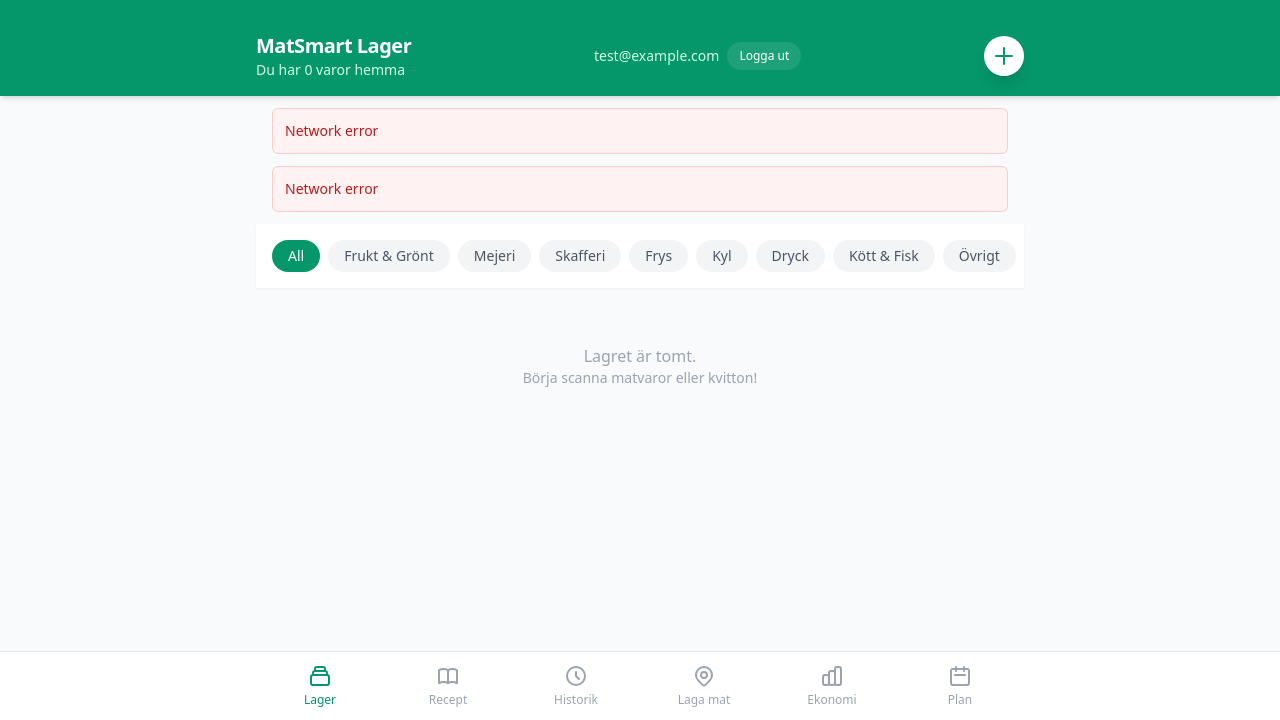
Test: Data Integration Tests › handles offline/error states gracefully
Expected: the text "Lager" is shown, x1=304 y1=692 x2=336 y2=708
Expected: the text "Network error" is shown 2 times, x1=272 y1=108 x2=1008 y2=154; x1=272 y1=166 x2=1008 y2=212
# Navigation should still work
Click the button "Ekonomi": (832, 686) x1=768 y1=652 x2=896 y2=719
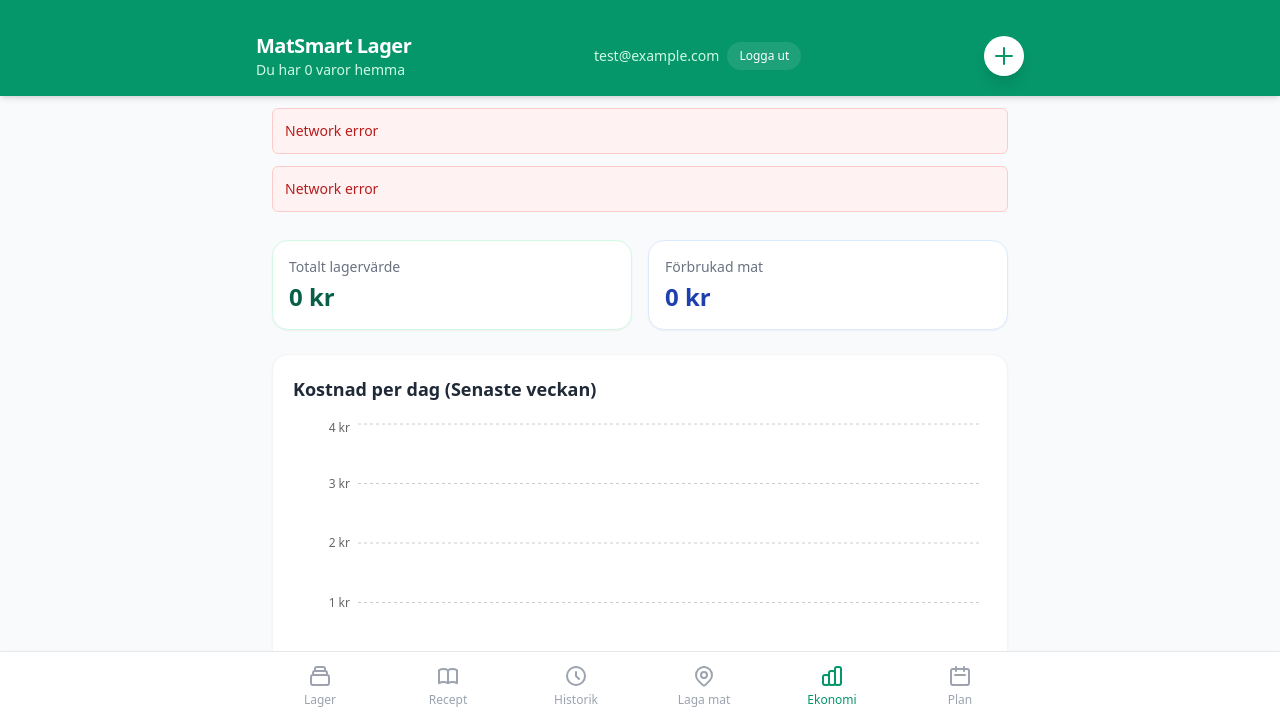
Expected: the heading "Kostnad per dag (Senaste veckan)" is shown, x1=293 y1=377 x2=596 y2=401
